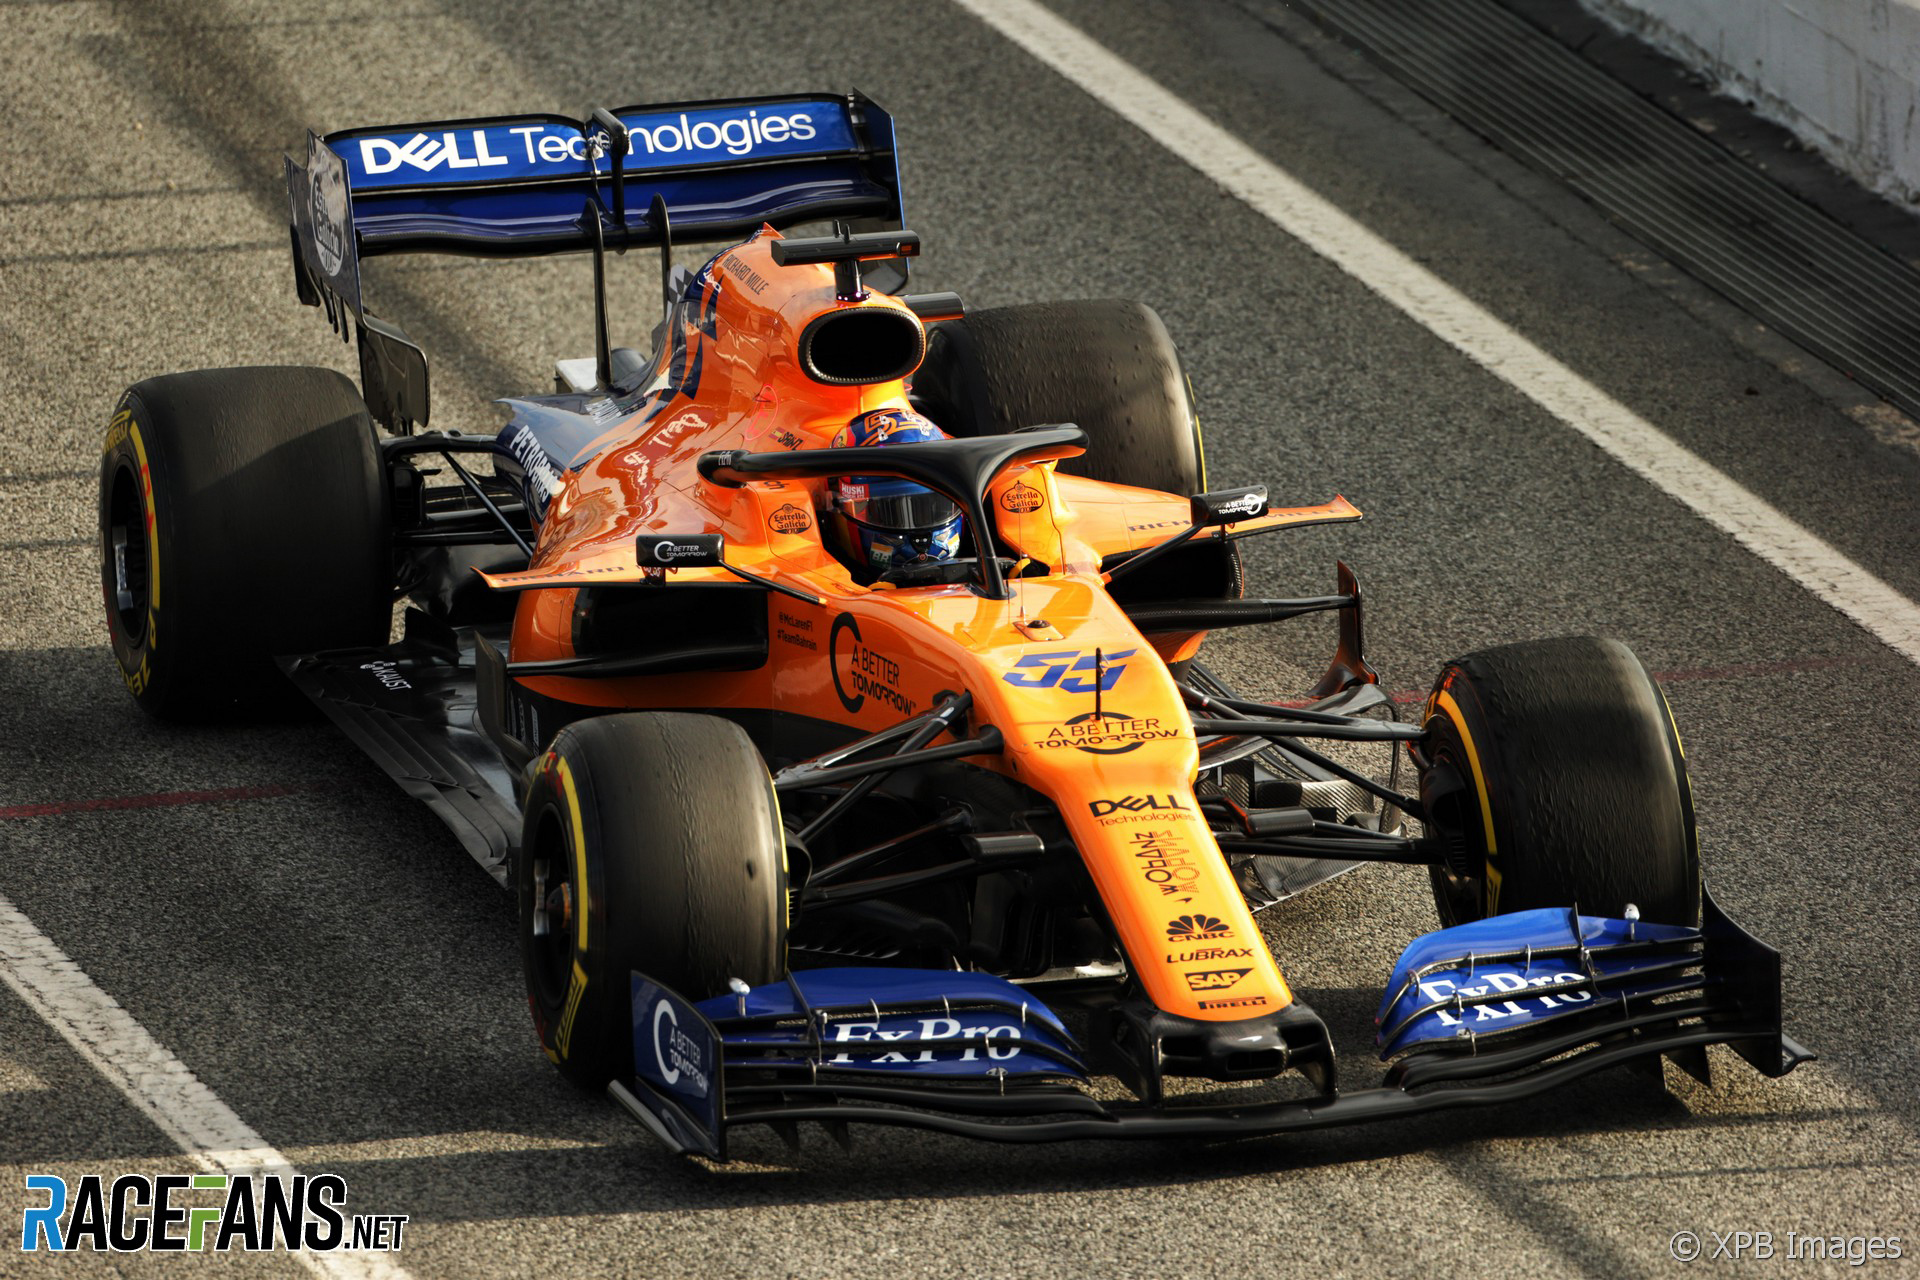F1 Car: (84, 71, 1823, 1169)
